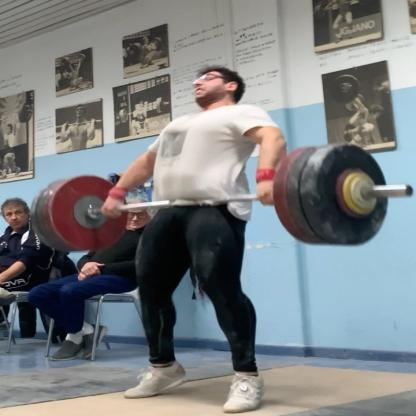barbell: (315, 144, 390, 248), (51, 176, 130, 252)
